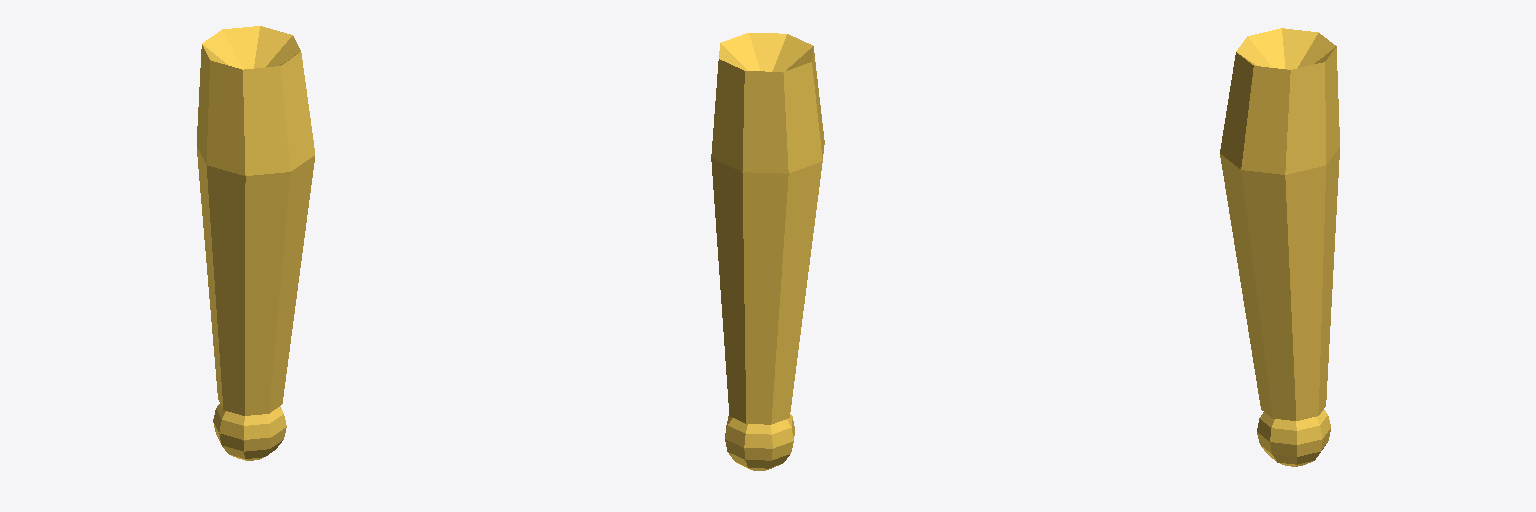
The model's file is arm.obj.
3 renders of one model, left to right at view 1: azimuth 30°, elevation 25°; view 2: azimuth 150°, elevation 25°; view 3: azimuth 270°, elevation 25°, orthographic.
Parts seen in each view (by area): view 1: Cylinder.004; view 2: Cylinder.004; view 3: Cylinder.004.
Part boxes in pixels (bbox=[...]): Cylinder.004: bbox=[197, 26, 314, 460]; Cylinder.004: bbox=[711, 33, 824, 470]; Cylinder.004: bbox=[1220, 28, 1339, 466].
Bounding box in the file's own units: 0.7062 × 2.68 × 0.7061.